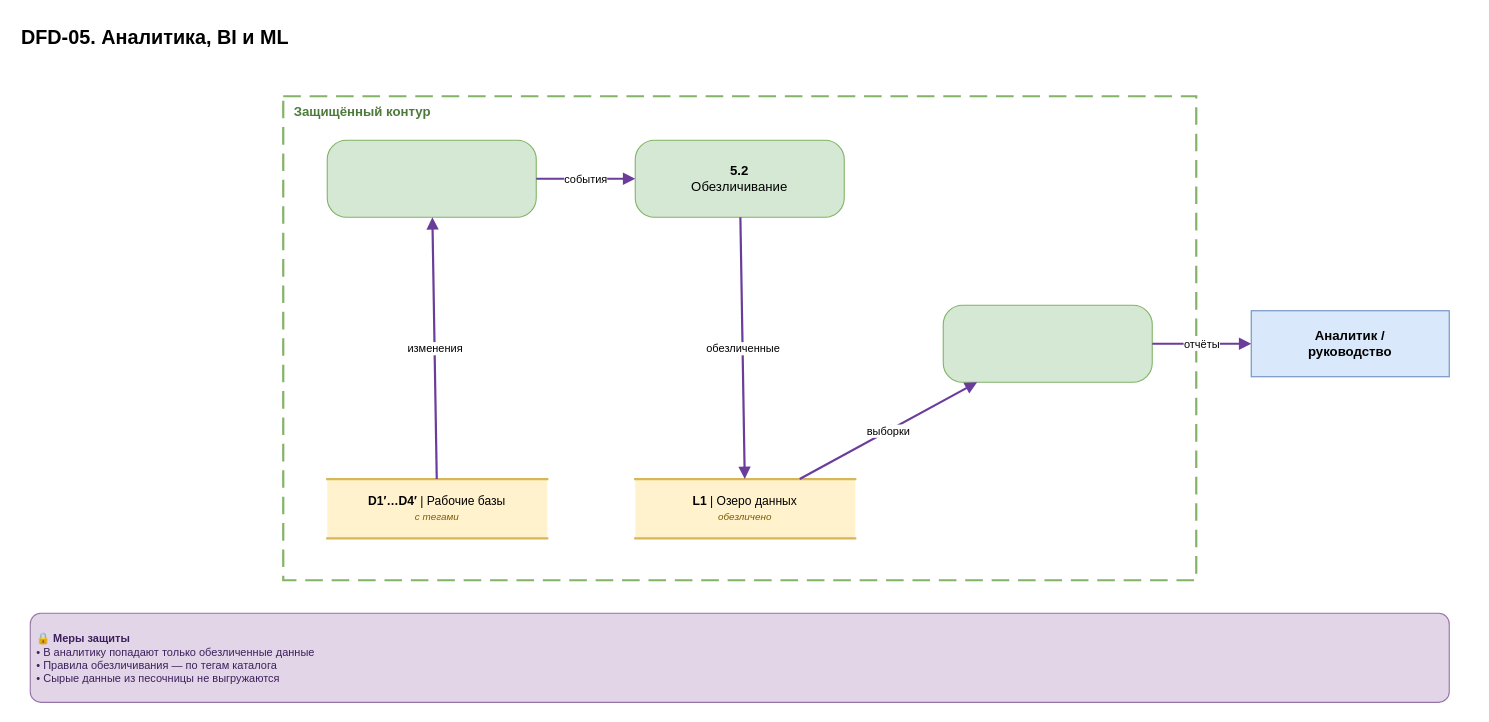
The diagram is 1489 pixels wide and 722 high, and some of its shapes have lost their labels. Each missing label, with the box of its shape:
5.1 Сбор изменений (CDC): (326, 139, 536, 217)
5.3 BI / ML: (942, 304, 1152, 382)
